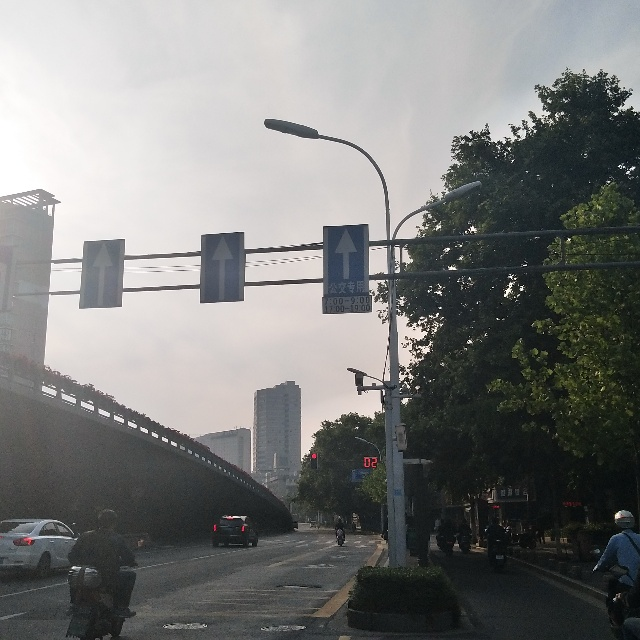straight: (203, 229, 243, 301), (80, 237, 120, 307), (329, 227, 370, 293)
